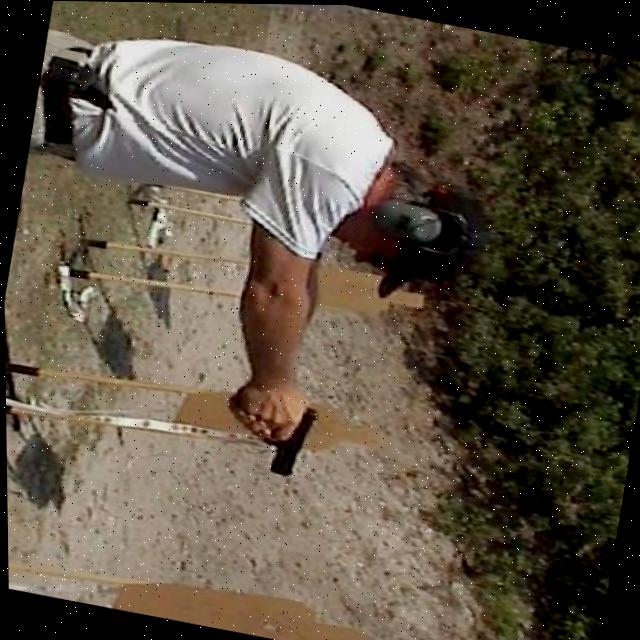pistol: (254, 397, 319, 480)
